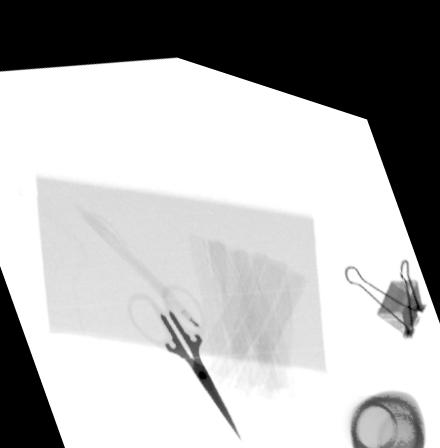Scissors: (126, 271, 240, 426)
